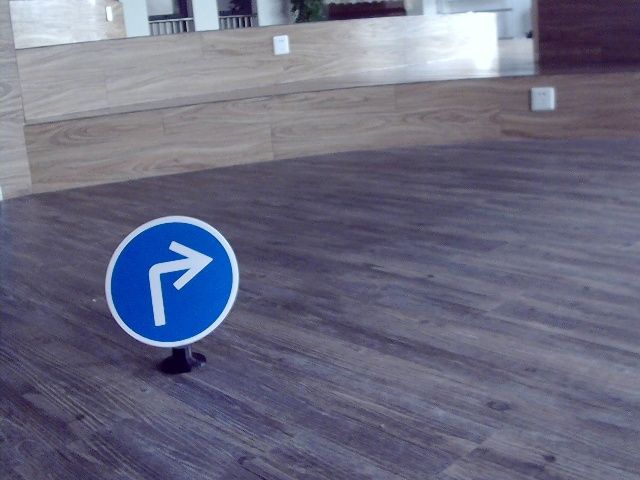turn_right: (133, 240, 213, 331)
